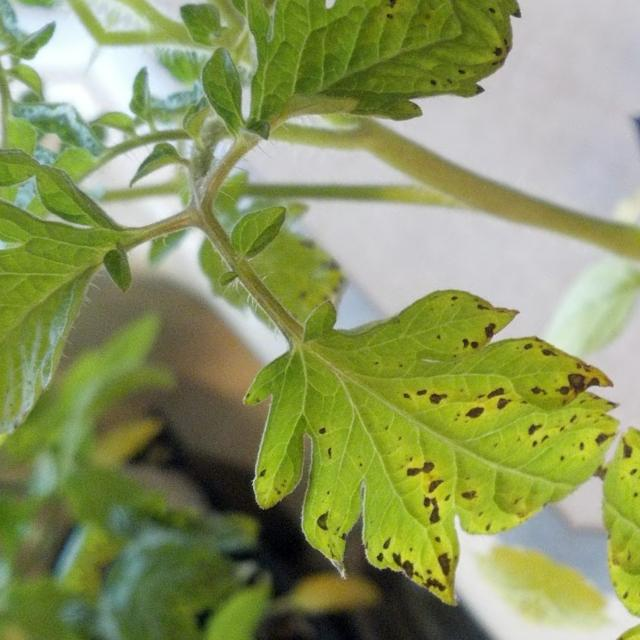Tomato Septoria leaf spot: (217, 221, 640, 640), (195, 0, 518, 239)
